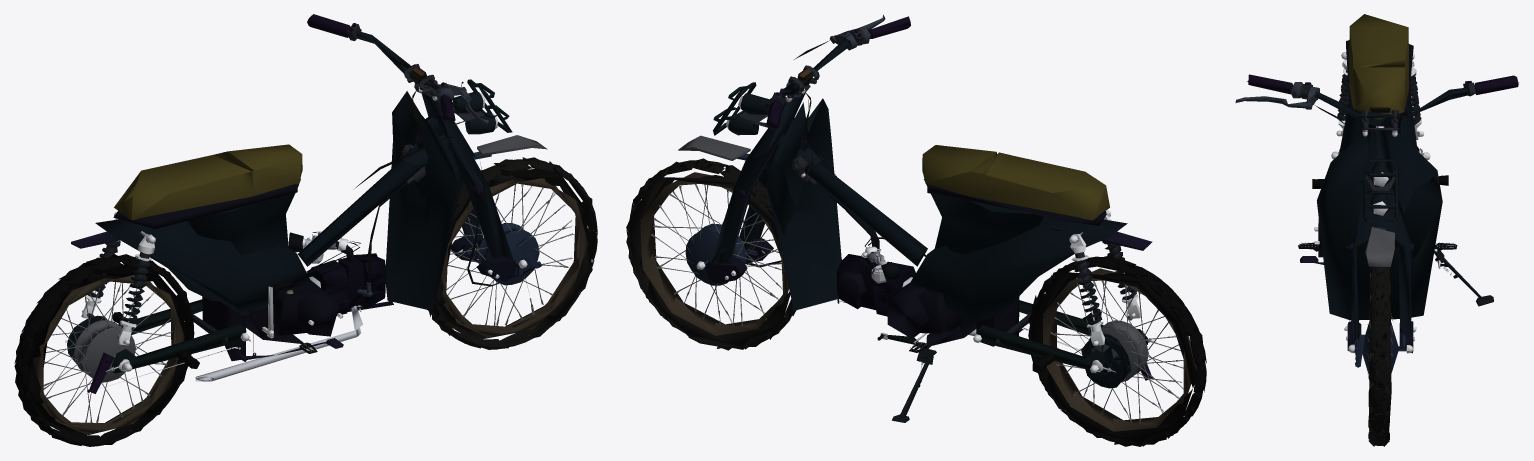
Rendered from xe-may-cub.glb.
3 renders of one model, left to right at view 1: azimuth 30°, elevation 25°; view 2: azimuth 150°, elevation 25°; view 3: azimuth 270°, elevation 25°, orthographic. The views are drawn at different scales.
Visible parts, largest first — view 1: polySurface1165, polySurface1005, pCube18, pCylinder170, polySurface778, polySurface1282, polySurface1277, polySurface777, polySurface1253, polySurface863, polySurface1209, polySurface1537 (+16 smaller); view 2: polySurface1165, polySurface1005, pCube18, polySurface777, polySurface1253, pCylinder170, polySurface778, polySurface1277, polySurface1282, polySurface863, polySurface1542, polySurface1185 (+15 smaller); view 3: polySurface1165, pCube18, polySurface778, polySurface1350, polySurface1420, polySurface1005, polySurface1341, polySurface1235, polySurface1343, polySurface1295, polySurface901, polySurface1328 (+11 smaller).
Boxes of the visible parts, bbox=[...] form: polySurface1165: bbox=[385, 91, 462, 310]; polySurface1005: bbox=[95, 219, 312, 315]; pCube18: bbox=[114, 144, 302, 220]; pCylinder170: bbox=[187, 178, 300, 255]; polySurface778: bbox=[422, 94, 513, 260]; polySurface1282: bbox=[33, 273, 184, 434]; polySurface1277: bbox=[441, 175, 588, 337]; polySurface777: bbox=[24, 265, 188, 436]; polySurface1253: bbox=[435, 169, 592, 339]; polySurface863: bbox=[298, 138, 450, 266]; polySurface1209: bbox=[74, 320, 135, 382]; polySurface1537: bbox=[112, 324, 246, 373]; polySurface1165: bbox=[767, 98, 841, 310]; polySurface1005: bbox=[910, 217, 1127, 323]; pCube18: bbox=[922, 145, 1109, 220]; polySurface777: bbox=[1031, 272, 1197, 444]; polySurface1253: bbox=[629, 175, 790, 347]; pCylinder170: bbox=[924, 179, 1043, 254]; polySurface778: bbox=[711, 93, 805, 263]; polySurface1277: bbox=[640, 172, 788, 335]; polySurface1282: bbox=[1043, 268, 1196, 431]; polySurface863: bbox=[781, 134, 927, 266]; polySurface1542: bbox=[976, 325, 1109, 374]; polySurface1185: bbox=[887, 283, 928, 337]; polySurface1165: bbox=[1317, 131, 1442, 320]; pCube18: bbox=[1349, 14, 1408, 119]; polySurface778: bbox=[1351, 129, 1412, 341]; polySurface1350: bbox=[1247, 81, 1518, 118]; polySurface1420: bbox=[1365, 227, 1394, 266]; polySurface1005: bbox=[1339, 91, 1417, 154]; polySurface1341: bbox=[1369, 321, 1390, 357]; polySurface1235: bbox=[1369, 292, 1390, 326]; polySurface1343: bbox=[1369, 353, 1390, 387]; polySurface1295: bbox=[1362, 159, 1398, 223]; polySurface901: bbox=[1474, 75, 1518, 94]; polySurface1328: bbox=[1369, 384, 1390, 413].
Bounding box in the file's own units: 0.9982 × 0.5214 × 0.4359.
